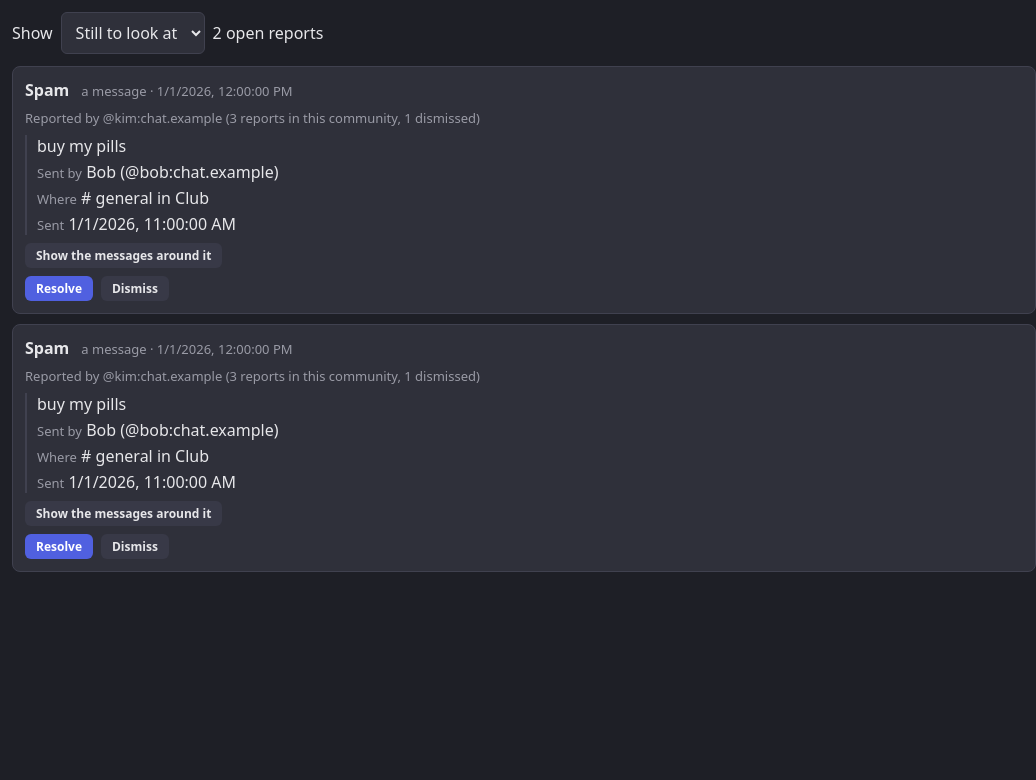
it: closing and reopening › resolves with what was done and a note, then the report leaves the list of open ones and the count drops
The width and height of the screenshot is (1036, 780).
Click the 1st button "Resolve".
click(59, 288)  # box [25,276,93,301]
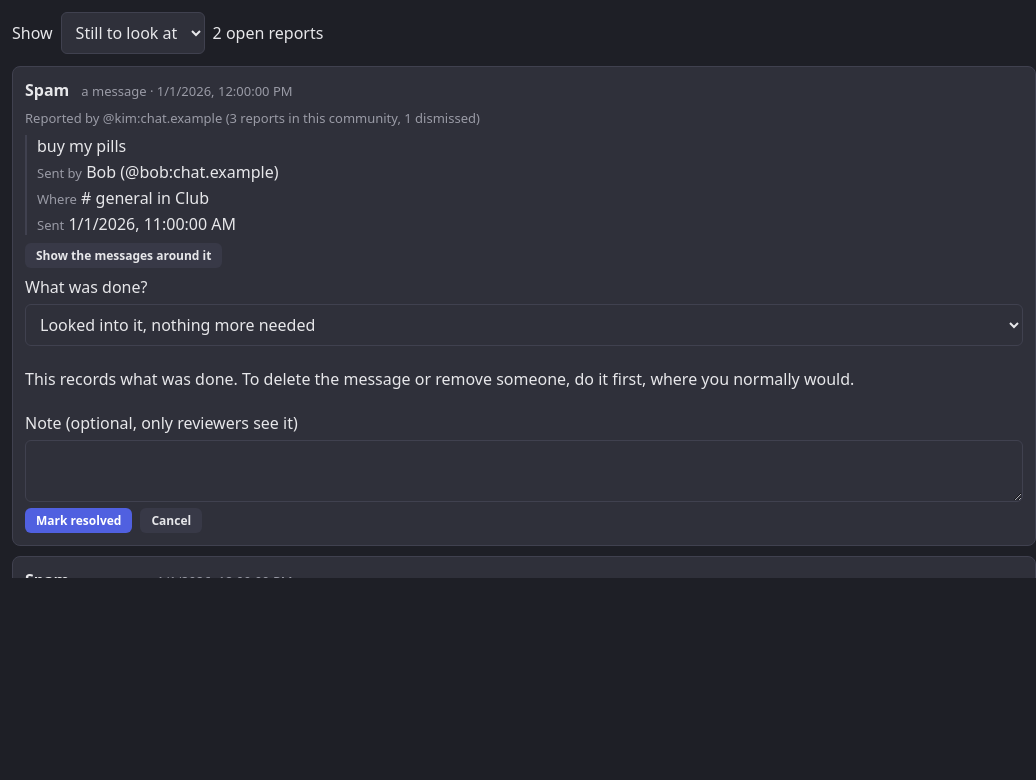
Select "I deleted the message" in the dropdown labelled "What was done?" at (524, 325), box [25,304,1023,346]
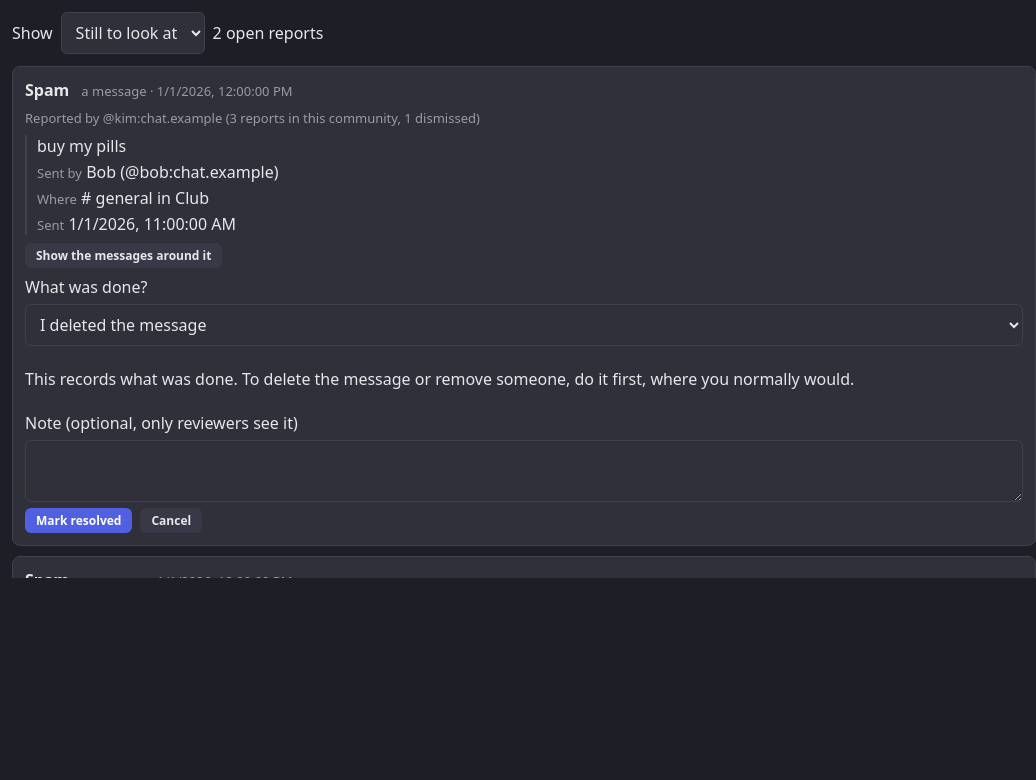
Type "  gone  " into the text box labelled "Note (optional, only reviewers see it)".
click(524, 471); type("  gone  ")  # box [25,440,1023,502]
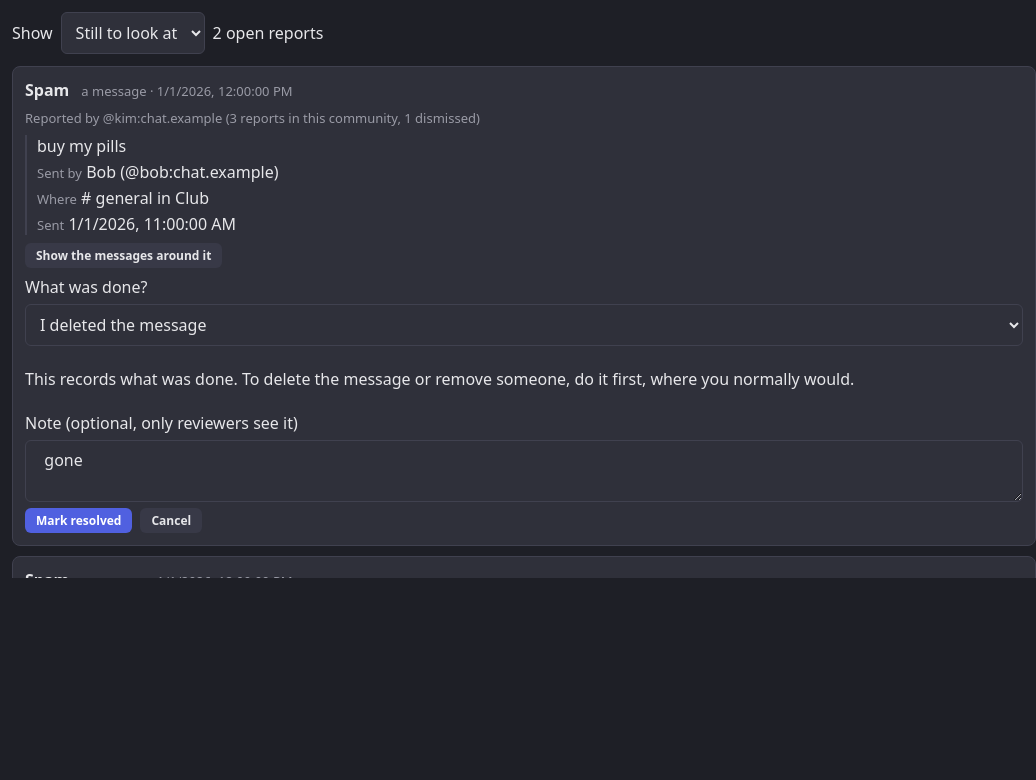
Click the button "Mark resolved".
click(79, 520)  # box [25,508,132,533]
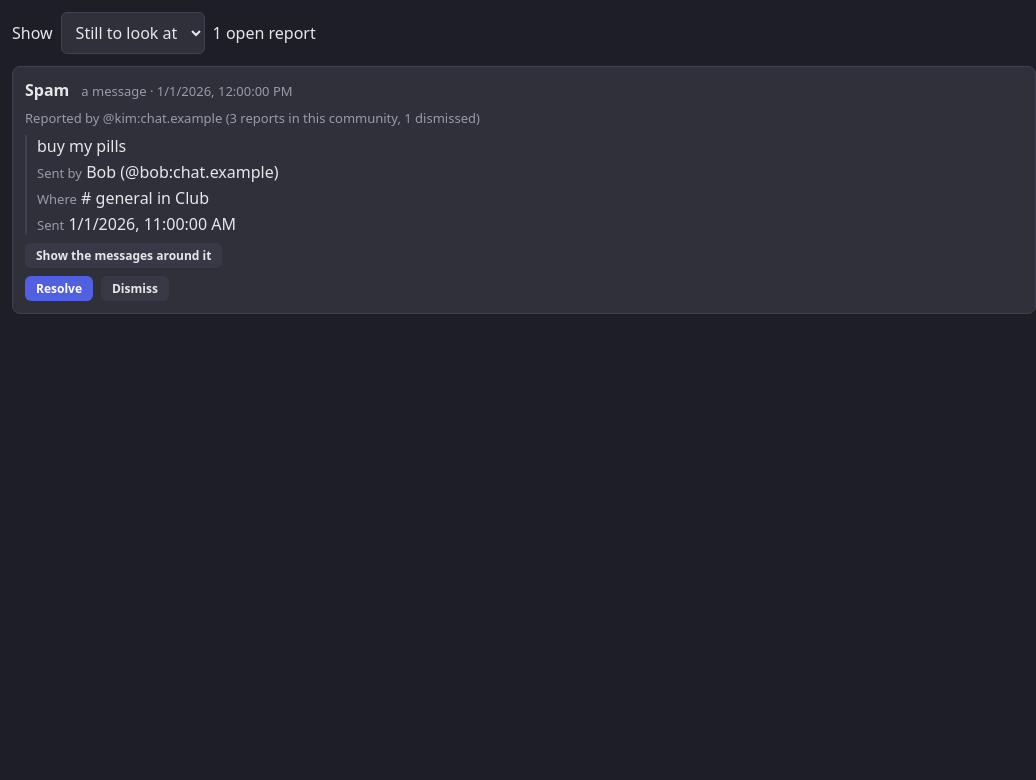
Expected: the number of list items is 1, [12,66,1035,314]
Expected: the text "1 open report" is shown, [213,22,316,44]
